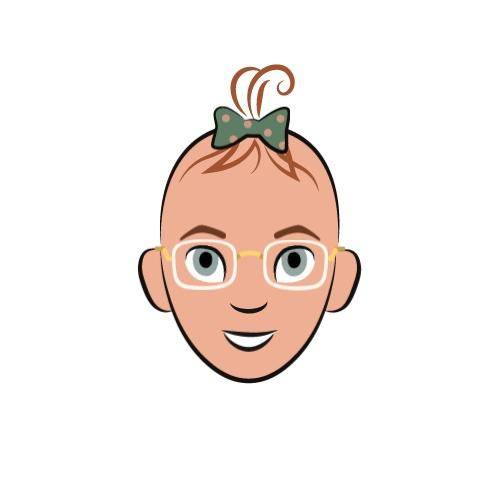NoHuman: (3, 0, 500, 500)
